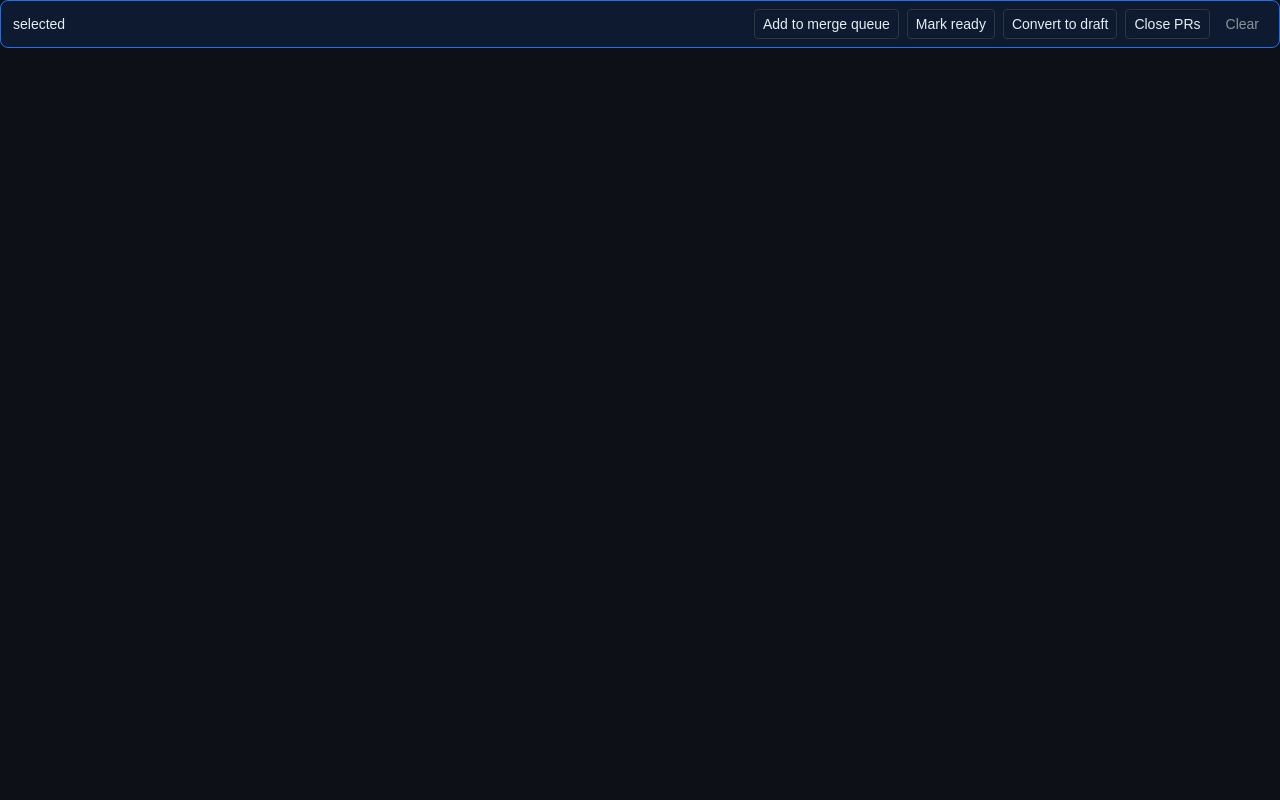
Scenario: BulkBar › confirms every bulk action, not only the destructive one
Click the button "Add to merge queue": x=826, y=24 [754,9,899,39]
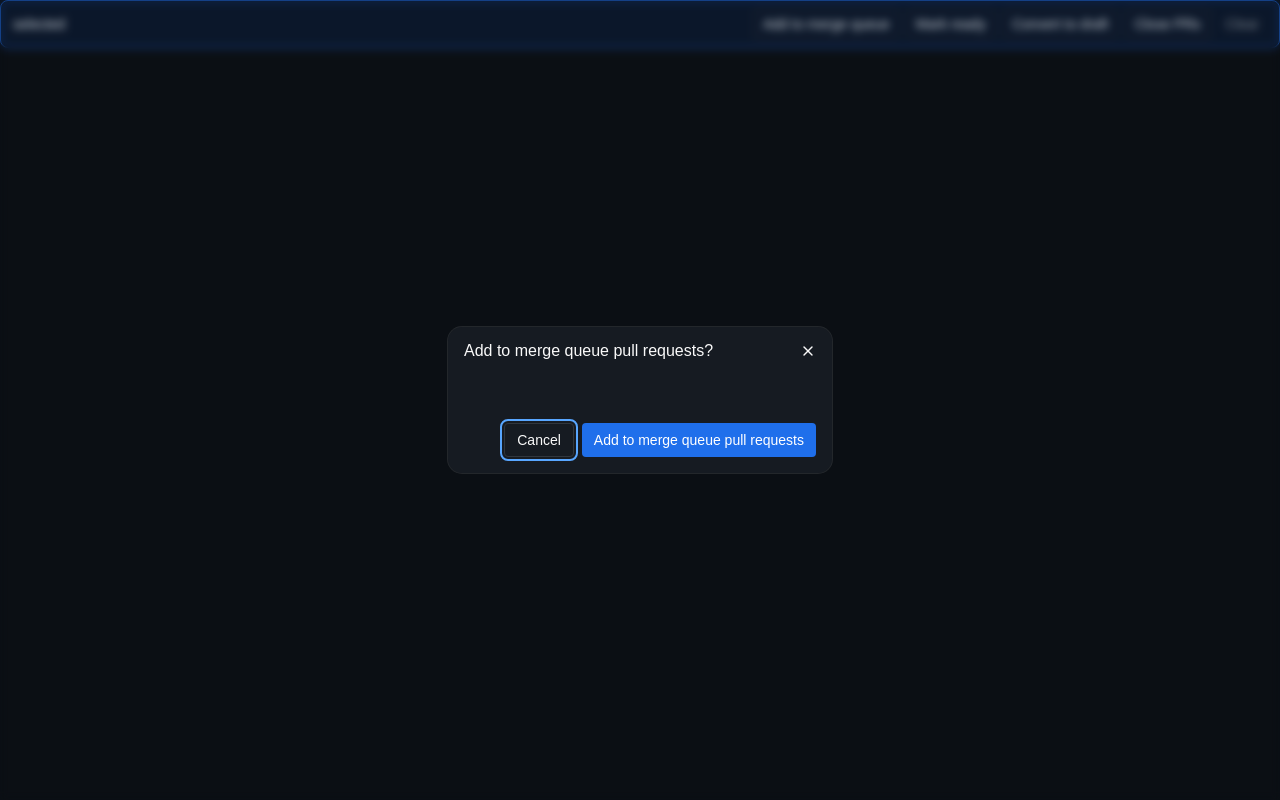
expect the dialog is shown: met, box [448,327,832,473]
